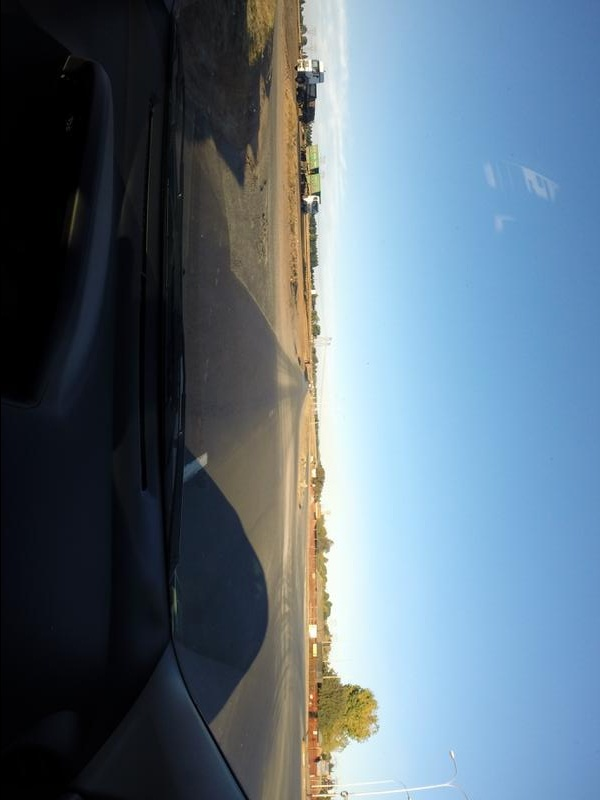pothole: (261, 214, 269, 262), (257, 177, 268, 192)
